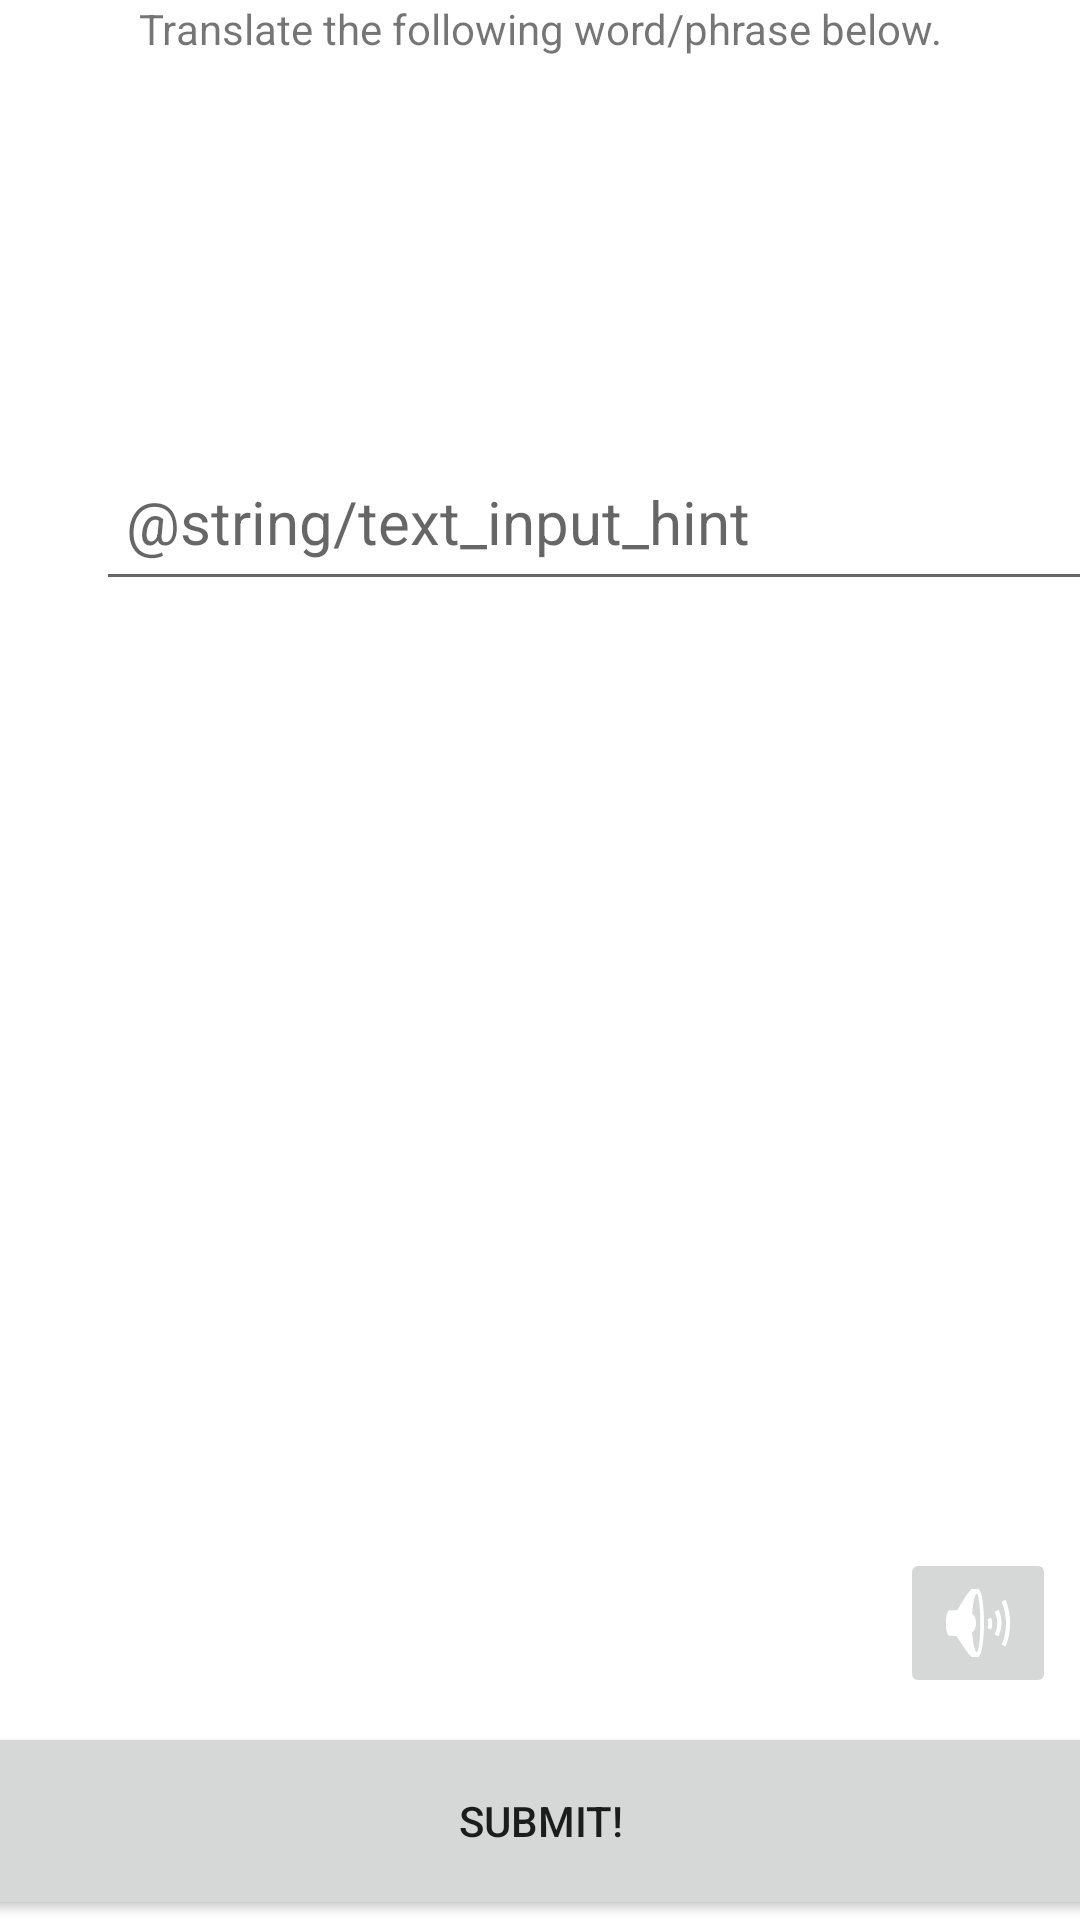

Where icons sit on this 1080w x 1920h app screen, as (x1, y1, x2, y2):
lock silent mode off: (912, 1566, 1044, 1680)
